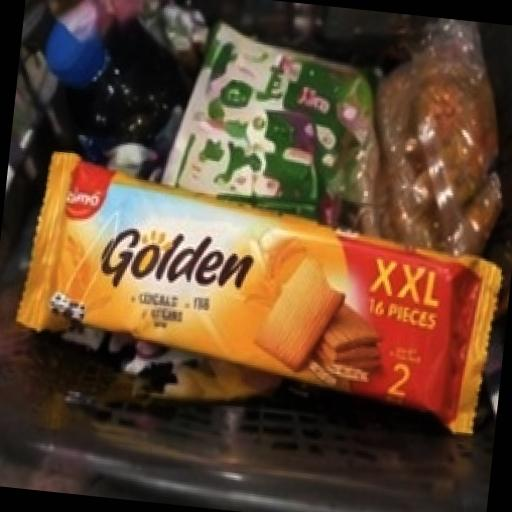golden: (0, 117, 512, 487)
